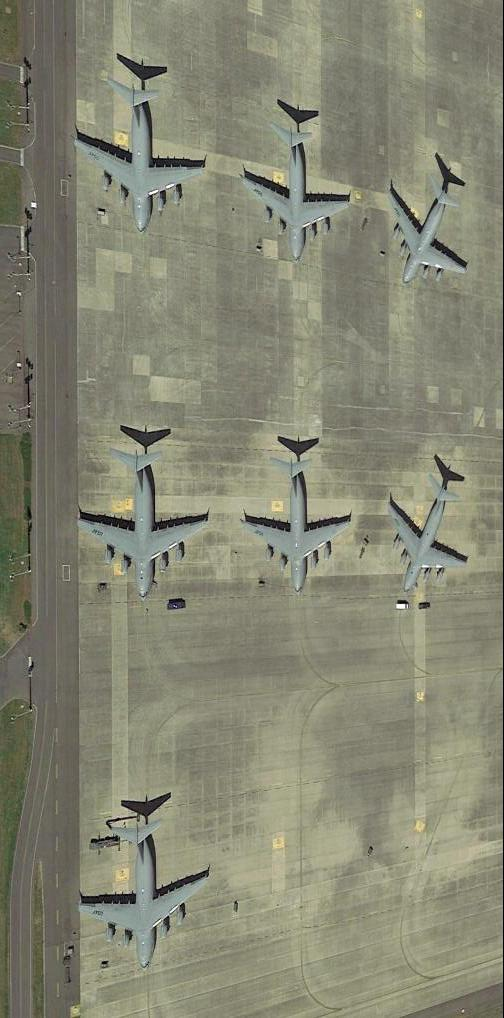C-17: (71, 432, 215, 602), (73, 802, 213, 972), (72, 70, 209, 233), (241, 441, 357, 595), (236, 116, 354, 267), (377, 467, 476, 593), (386, 173, 474, 295)
